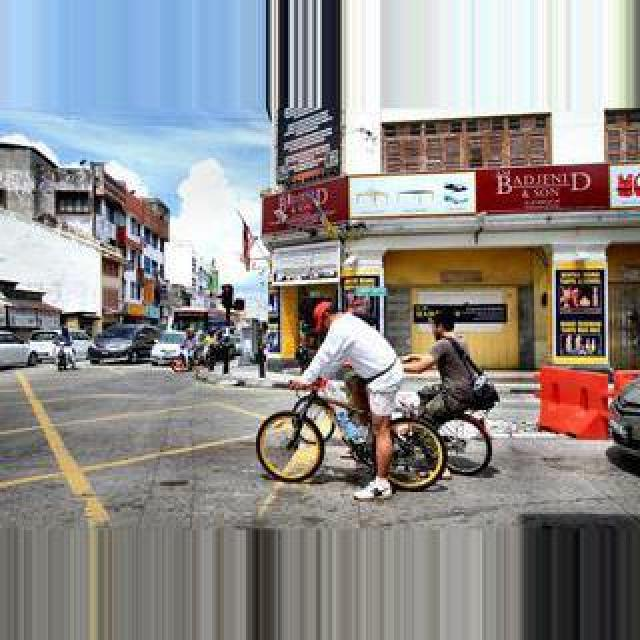Bus-Bike: (88, 322, 162, 364), (0, 330, 38, 368), (150, 332, 188, 368)
MC-Bike: (286, 300, 410, 498), (400, 318, 486, 478)
Person: (256, 378, 454, 496), (406, 386, 494, 478)
